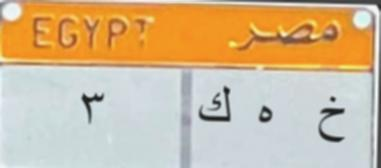3: (79, 88, 108, 131)
haa: (248, 99, 280, 136)
kaaf: (194, 85, 235, 128)
khaa: (313, 94, 352, 150)
